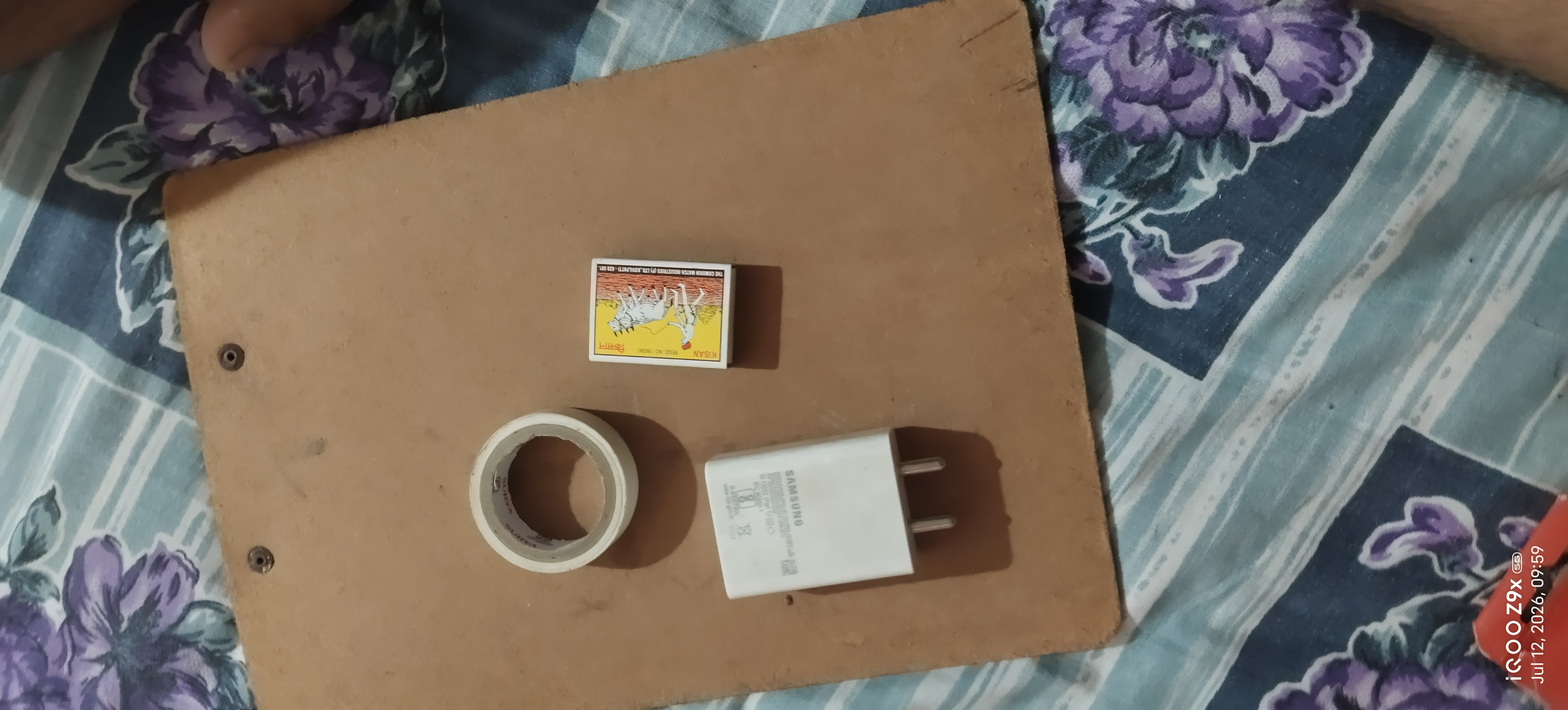charger: (681, 420, 972, 608)
matchbox: (573, 240, 768, 385)
tape_roll: (448, 393, 664, 595)
